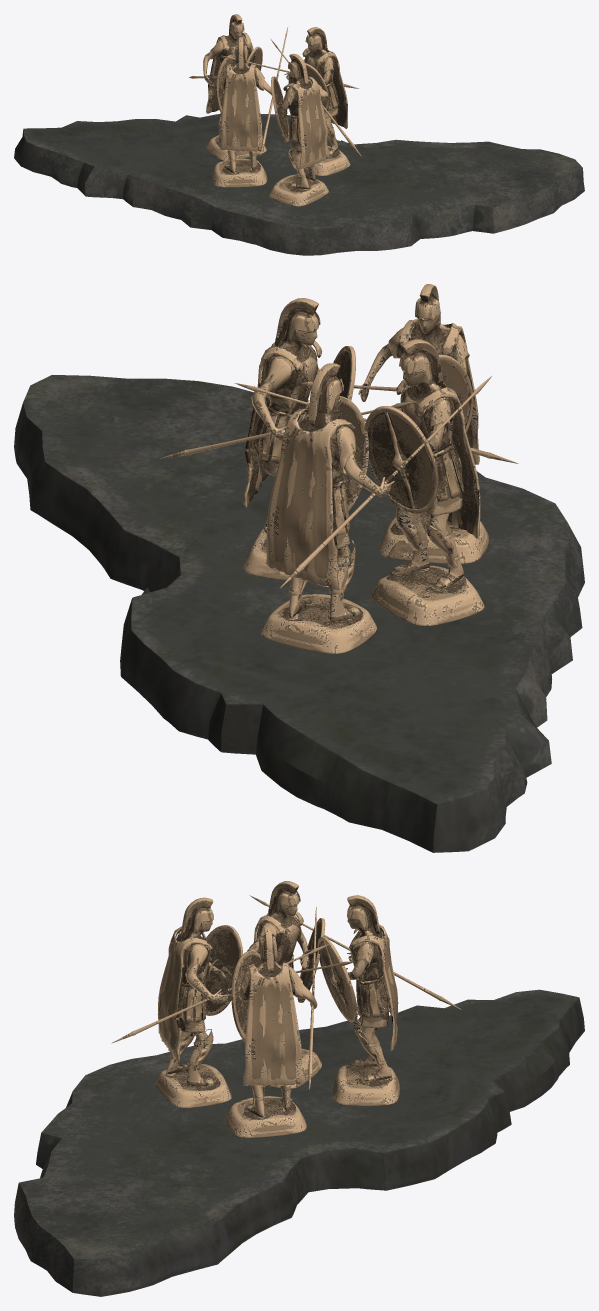
Rendered from battle.glb.
3 views of the same model, one above another, from view 1: azimuth 30°, elevation 25°; view 2: azimuth 150°, elevation 25°; view 3: azimuth 270°, elevation 25° (orthographic). The views are drawn at different scales.
Parts seen in each view (by area): view 1: battle; view 2: battle; view 3: battle.
Boxes of the visible parts, <box> form: battle: <box>14,14,584,255</box>; battle: <box>14,284,584,852</box>; battle: <box>14,881,584,1296</box>.
Size of the model in its own units: 2.4 by 0.9185 by 2.09.
2 materials, 2 textured.
